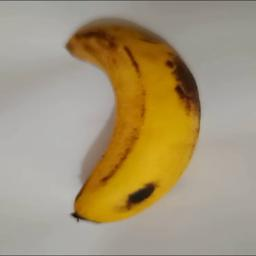Banana Semifresh: (59, 21, 203, 233)
